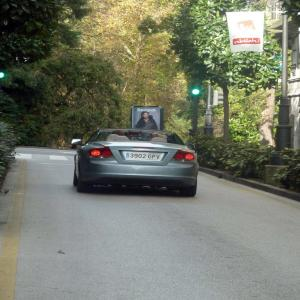Vehicle-registration-plate: (122, 152, 165, 163)
